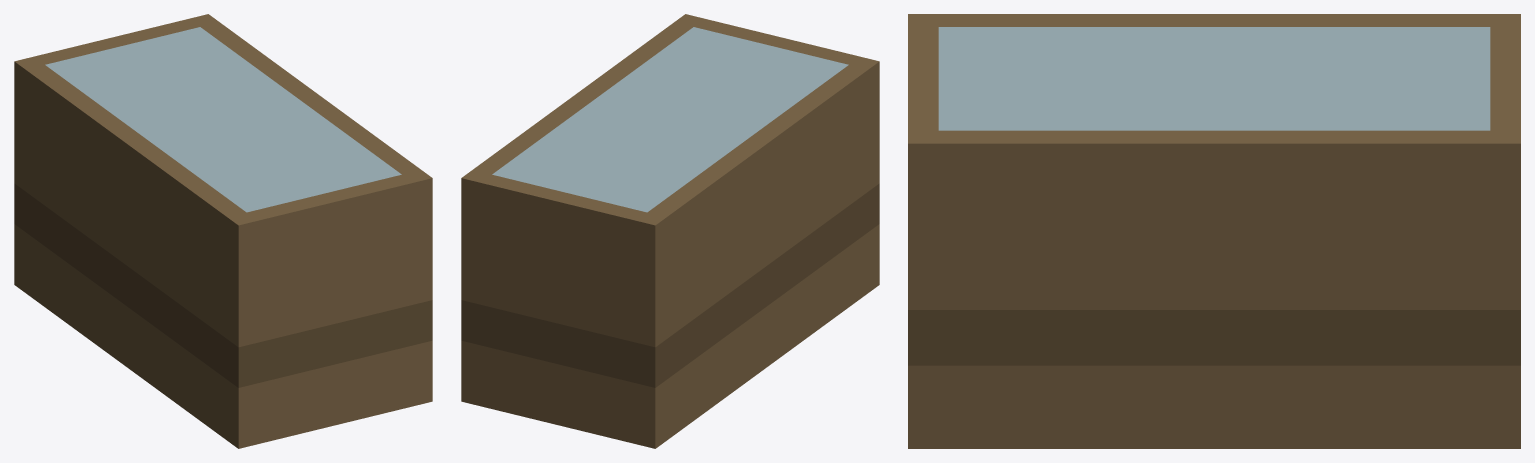
The model's file is tina_madera_encina_01.glb.
3 renders of one model, left to right at view 1: azimuth 30°, elevation 25°; view 2: azimuth 150°, elevation 25°; view 3: azimuth 270°, elevation 25°, orthographic. The views are drawn at different scales.
Visible parts, largest first — view 1: tina_madera_encina; view 2: tina_madera_encina; view 3: tina_madera_encina.
Part boxes in pixels (x1,y1,x2,y2): tina_madera_encina: [14, 14, 432, 448]; tina_madera_encina: [461, 14, 879, 448]; tina_madera_encina: [908, 14, 1520, 448].
Size of the model in its own units: 1 by 1.1 by 2.
